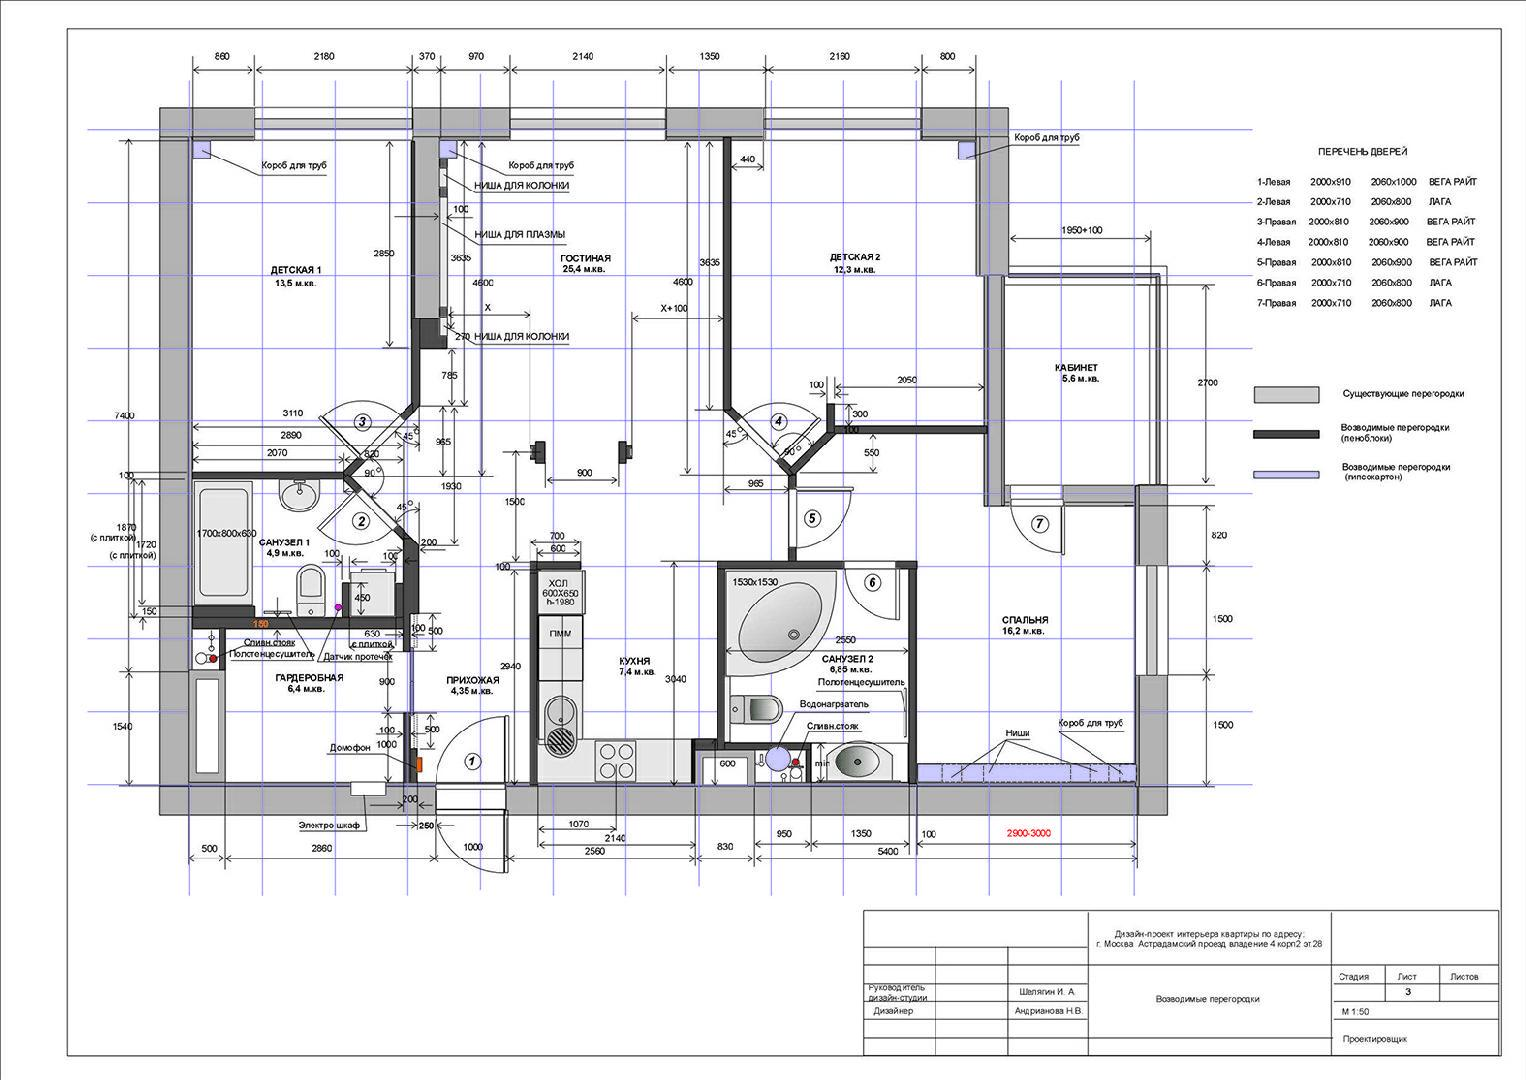bathroom: (694, 569, 909, 785), (192, 479, 404, 617)
bedroom: (917, 508, 1137, 784)
children_room: (731, 129, 986, 466), (194, 129, 414, 472)
hallway: (351, 406, 789, 782)
home_office: (1004, 277, 1157, 486)
kitchen: (537, 570, 717, 783)
living_room: (421, 140, 724, 410)
walk_in_closet: (188, 628, 404, 787)
